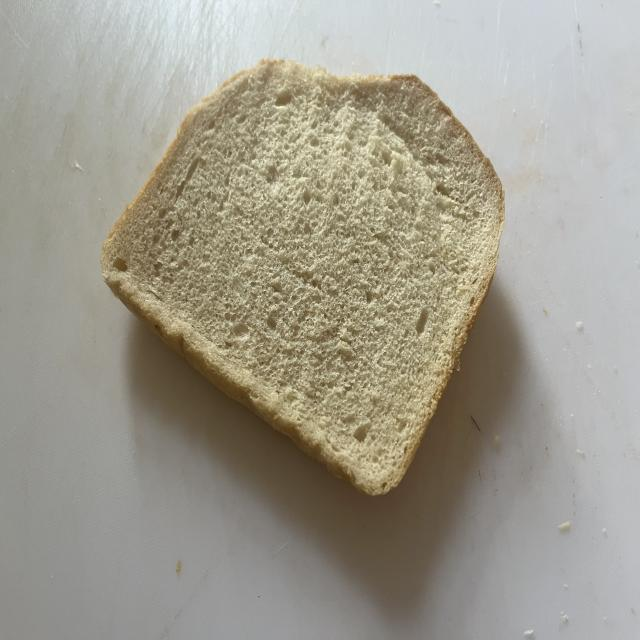sliced_bread: (102, 61, 504, 495)
